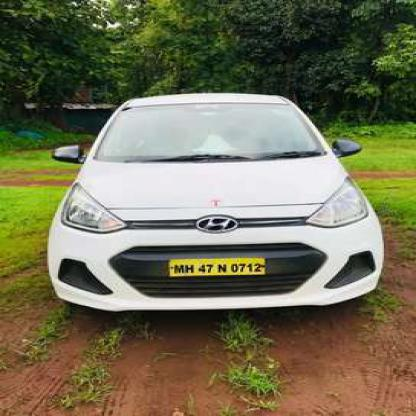license_plate: (168, 257, 263, 274)
